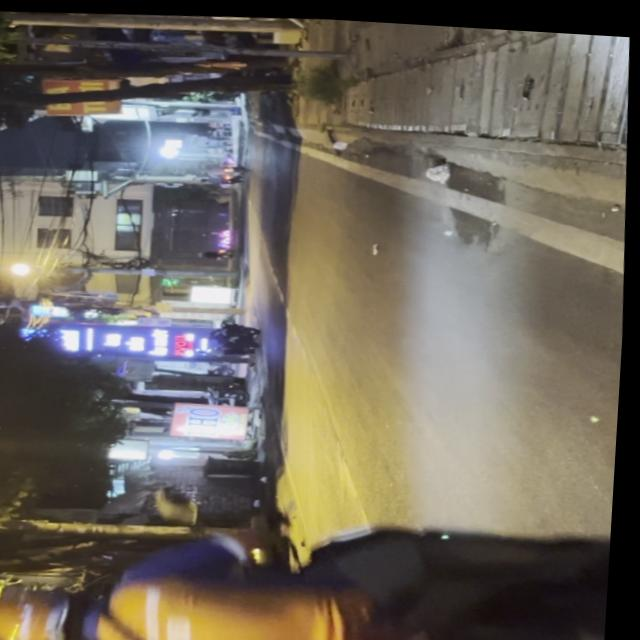helmet: (0, 579, 110, 640)
licenseplate: (0, 476, 618, 640)
